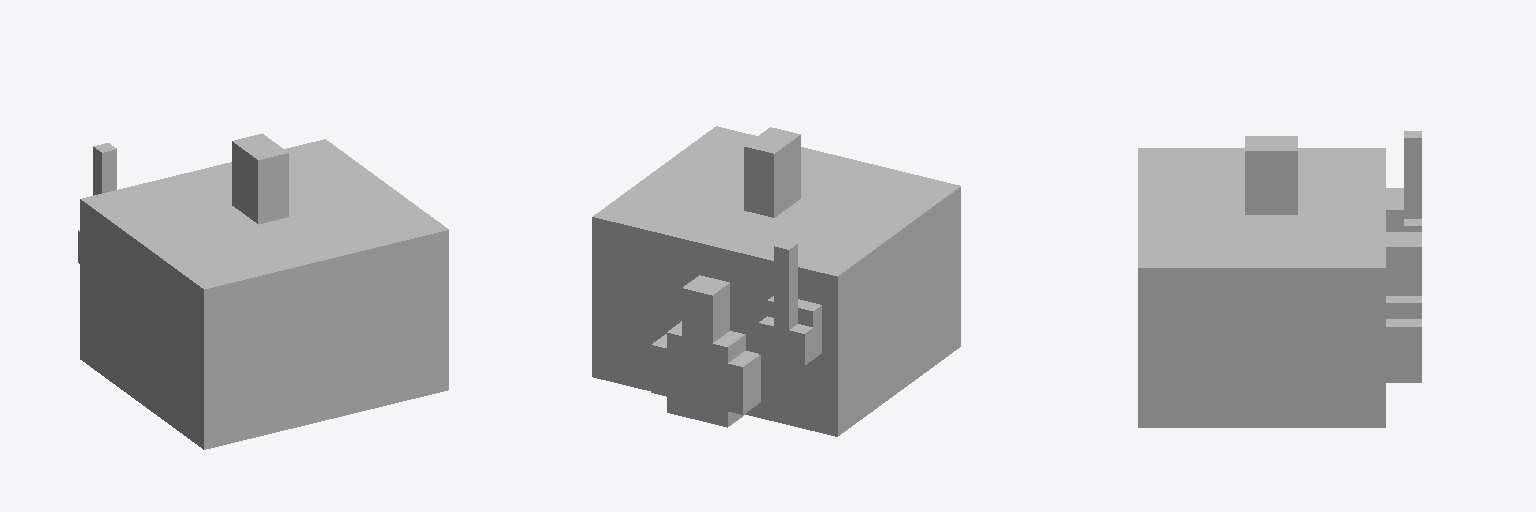
Rendered from extracteurdemagiefiolevrai.obj.
The picture shows the model from 3 angles: view 1: azimuth 30°, elevation 25°; view 2: azimuth 150°, elevation 25°; view 3: azimuth 270°, elevation 25°; orthographic projection.
Visible parts, largest first — view 1: cube; view 2: cube; view 3: cube.
Boxes of the visible parts, x1,y1,x2,y2 form: cube: [78, 133, 448, 449]; cube: [592, 126, 960, 436]; cube: [1138, 131, 1421, 427].
Size of the model in its own units: 1 by 0.875 by 1.